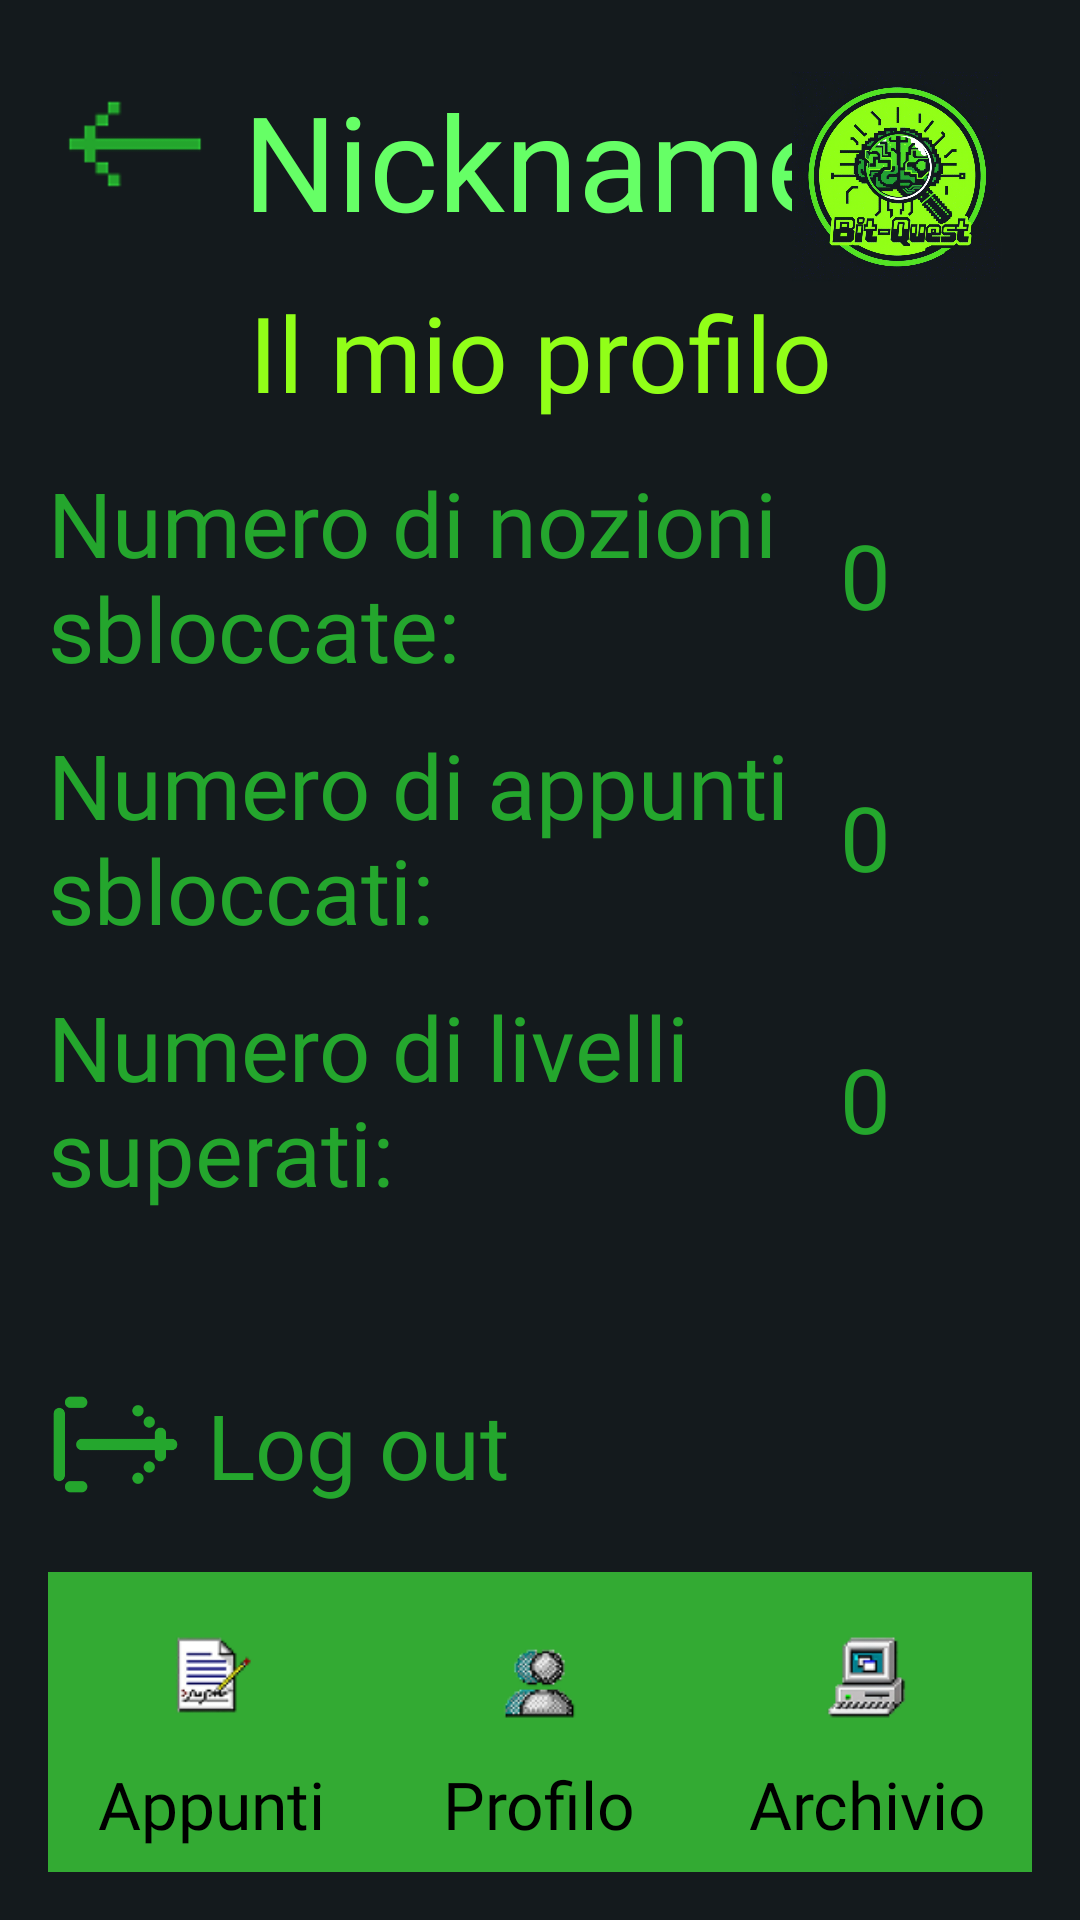

Locate icon controls on the screen. Image size 1080w x 1920h, boxes as [x1=x1, y1=y1, x2=x2, y2=y2].
arrow back: [x1=69, y1=101, x2=201, y2=187]
notes: [x1=177, y1=1637, x2=251, y2=1713]
profile: [x1=505, y1=1649, x2=574, y2=1718]
